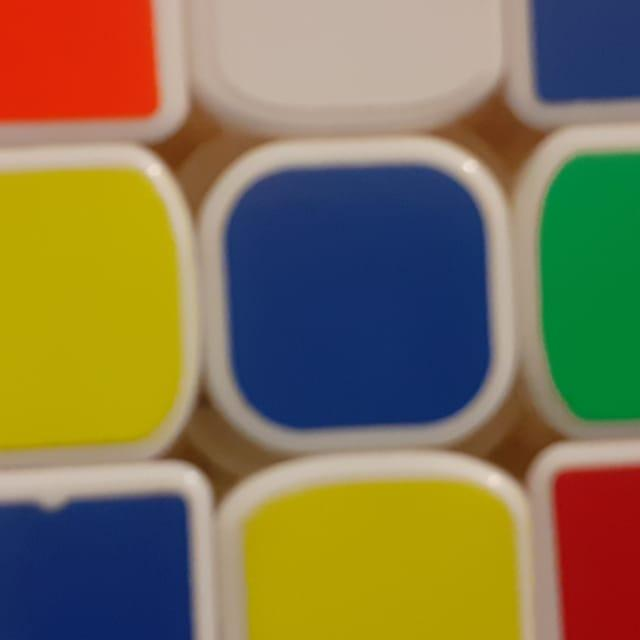Blue: (215, 150, 509, 437), (0, 484, 204, 640)
Green: (522, 127, 640, 430)
Orange: (0, 0, 176, 136)
Red: (550, 450, 640, 640)
White: (189, 0, 508, 110)
Yellow: (0, 157, 199, 460), (227, 464, 534, 640)
